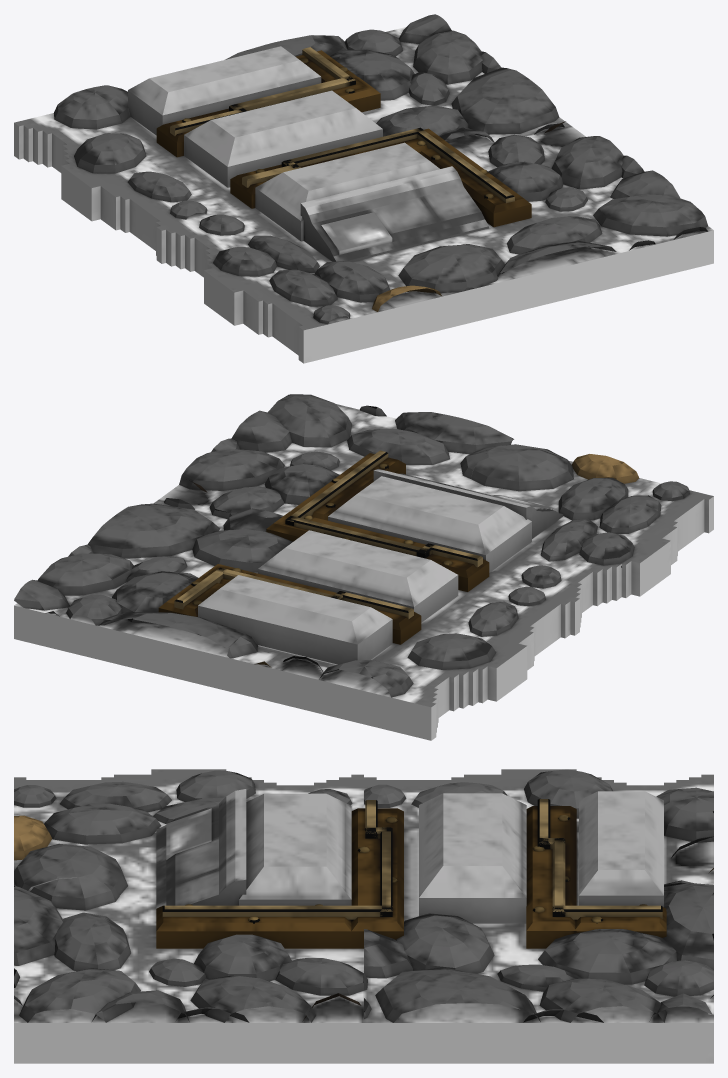
The model's file is tyrbld-white-gate-w.glb.
The picture shows the model from 3 angles, top to bottom: view 1: azimuth 30°, elevation 25°; view 2: azimuth 150°, elevation 25°; view 3: azimuth 270°, elevation 25°; orthographic projection. The views are drawn at different scales.
Parts seen in each view (by area): view 1: shapesz-tyrbld-white-gate-w-parts; view 2: shapesz-tyrbld-white-gate-w-parts; view 3: shapesz-tyrbld-white-gate-w-parts.
Boxes of the visible parts, <box> form: shapesz-tyrbld-white-gate-w-parts: <box>14,14,713,363</box>; shapesz-tyrbld-white-gate-w-parts: <box>14,394,713,740</box>; shapesz-tyrbld-white-gate-w-parts: <box>14,769,713,1063</box>.
Size of the model in its own units: 4 by 0.65 by 4.67.
Materials: 10 (10 with a texture image).
